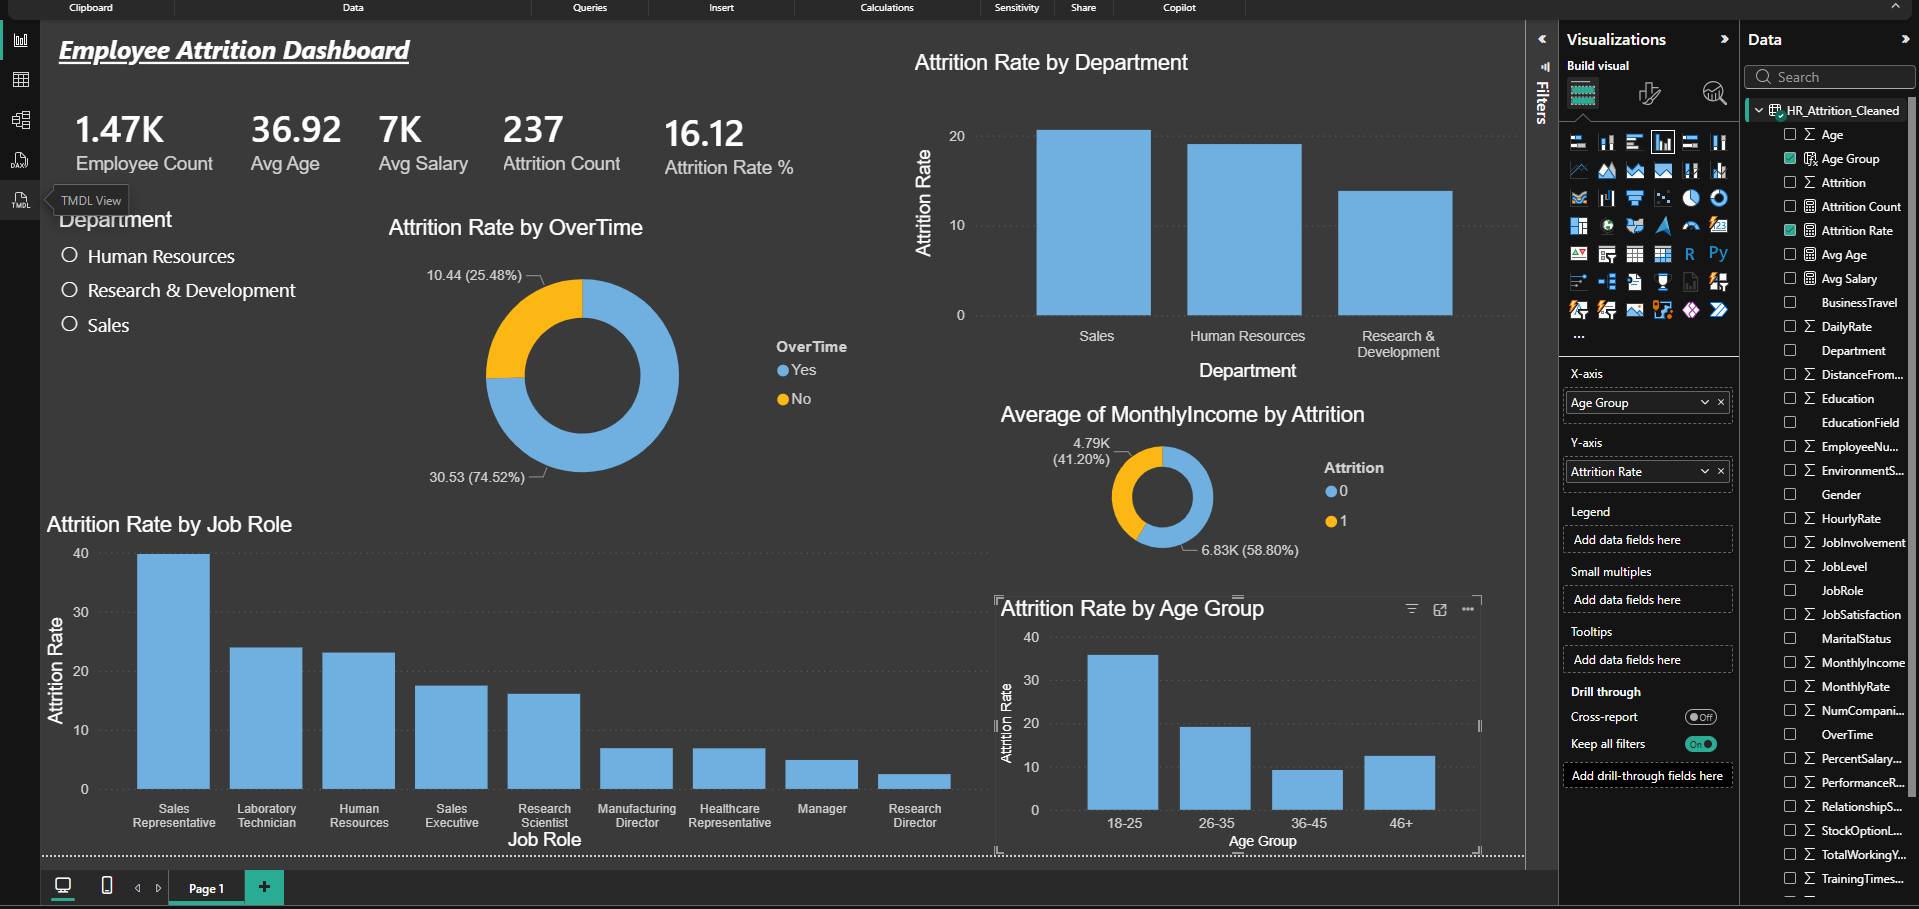

What the dashboard file says about the page in this screenshot:
{"tool":"powerbi","page":{"name":"Page 1","canvas":[1280,720],"ordinal":0},"visuals":[{"type":"cardVisual","fields":{"Data":["CountNonNull(HR_Attrition_Cleaned.EmployeeNumber)"]},"box":[0,50,178.5,100.9],"z":0},{"type":"clusteredColumnChart","fields":{"Y":["HR_Attrition_Cleaned.Attrition Rate"],"Category":["HR_Attrition_Cleaned.Department"]},"box":[748.7,25.9,531.3,289.8],"z":1000},{"type":"donutChart","fields":{"Category":["HR_Attrition_Cleaned.OverTime"],"Y":["HR_Attrition_Cleaned.Attrition Rate"]},"box":[295,168.2,425.2,256.2],"z":2000},{"type":"clusteredColumnChart","fields":{"Y":["HR_Attrition_Cleaned.Attrition Rate"],"Category":["HR_Attrition_Cleaned.JobRole"]},"box":[0,424.4,822.9,295.8],"z":3000},{"type":"listSlicer","fields":{"Values":["HR_Attrition_Cleaned.Department"]},"box":[10.4,161.3,251,156.1],"z":4000},{"type":"cardVisual","fields":{"Data":["HR_Attrition_Cleaned.Attrition Count"]},"box":[368.3,46.6,163,108.7],"z":5000},{"type":"cardVisual","fields":{"Data":["HR_Attrition_Cleaned.Avg Salary"]},"box":[261.3,46.6,138,108.7],"z":6000},{"type":"cardVisual","fields":{"Data":["HR_Attrition_Cleaned.Avg Age"]},"box":[150.9,46.6,138,108.7],"z":7000},{"type":"clusteredColumnChart","fields":{"Category":["HR_Attrition_Cleaned.Age Group"],"Y":["HR_Attrition_Cleaned.Attrition Rate"]},"box":[822.9,496.8,419.2,223.4],"z":8000},{"type":"donutChart","fields":{"Category":["HR_Attrition_Cleaned.Attrition"],"Y":["Avg(HR_Attrition_Cleaned.MonthlyIncome)"]},"box":[822.9,329.5,357.1,143.2],"z":9000},{"type":"textbox","box":[10.4,6,320,39.7],"z":10000},{"type":"cardVisual","fields":{"Data":["HR_Attrition_Cleaned.Attrition Rate"]},"box":[508,39.7,171.6,128.5],"z":10001}]}

Visuals, with their boxes on the page's 1280x720 design canvas (x1, y1, x2, y2). These are canvas units, not pixel positions in the 1919x909 screenshot, which may show the page scaled, cropped or inside an application window:
cardVisual - CountNonNull(HR_Attrition_Cleaned.EmployeeNumber): <bbox>0, 50, 178, 151</bbox>
clusteredColumnChart - HR_Attrition_Cleaned.Attrition Rate x HR_Attrition_Cleaned.Department: <bbox>749, 26, 1280, 316</bbox>
donutChart - HR_Attrition_Cleaned.OverTime x HR_Attrition_Cleaned.Attrition Rate: <bbox>295, 168, 720, 424</bbox>
clusteredColumnChart - HR_Attrition_Cleaned.Attrition Rate x HR_Attrition_Cleaned.JobRole: <bbox>0, 424, 823, 720</bbox>
listSlicer - HR_Attrition_Cleaned.Department: <bbox>10, 161, 261, 317</bbox>
cardVisual - HR_Attrition_Cleaned.Attrition Count: <bbox>368, 47, 531, 155</bbox>
cardVisual - HR_Attrition_Cleaned.Avg Salary: <bbox>261, 47, 399, 155</bbox>
cardVisual - HR_Attrition_Cleaned.Avg Age: <bbox>151, 47, 289, 155</bbox>
clusteredColumnChart - HR_Attrition_Cleaned.Age Group x HR_Attrition_Cleaned.Attrition Rate: <bbox>823, 497, 1242, 720</bbox>
donutChart - HR_Attrition_Cleaned.Attrition x Avg(HR_Attrition_Cleaned.MonthlyIncome): <bbox>823, 330, 1180, 473</bbox>
textbox: <bbox>10, 6, 330, 46</bbox>
cardVisual - HR_Attrition_Cleaned.Attrition Rate: <bbox>508, 40, 680, 168</bbox>
